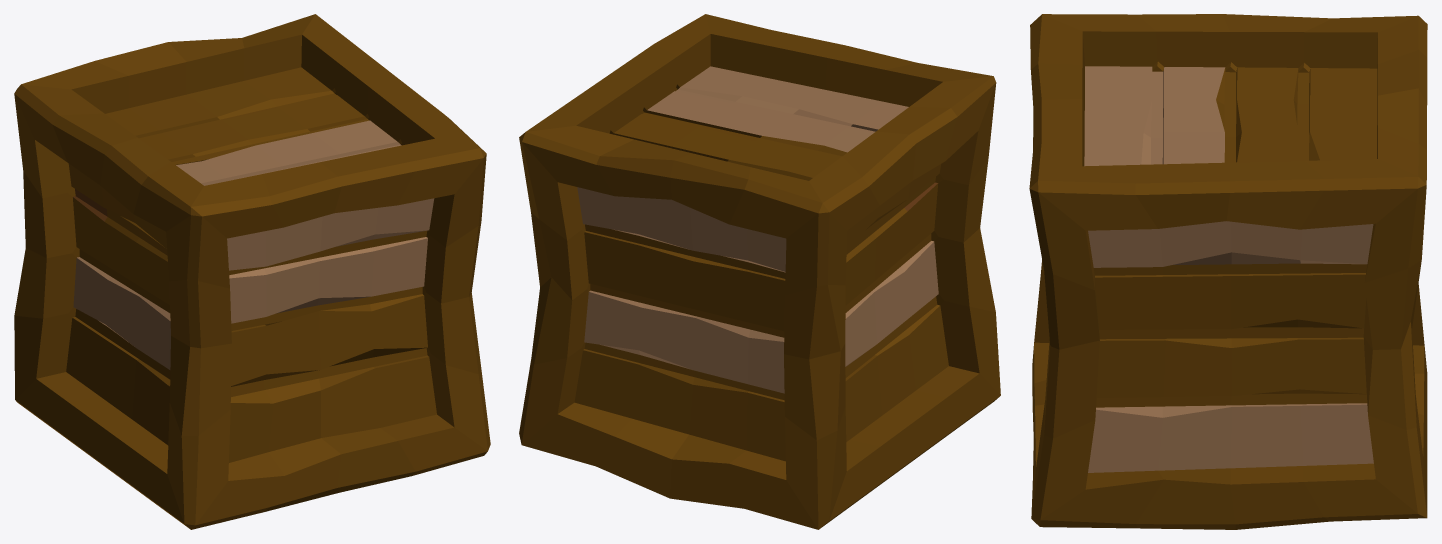
The model's file is crate.fbx.
3 renders of one model, left to right at view 1: azimuth 30°, elevation 25°; view 2: azimuth 150°, elevation 25°; view 3: azimuth 270°, elevation 25°, orthographic. The views are drawn at different scales.
Visible parts, largest first — view 1: crate; view 2: crate; view 3: crate.
Part boxes in pixels (left/top/right/bottom): crate: left=14, top=14, right=490, bottom=529; crate: left=519, top=14, right=1000, bottom=529; crate: left=1029, top=14, right=1427, bottom=529.
Bounding box in the file's own units: 70.66 × 71.59 × 70.
